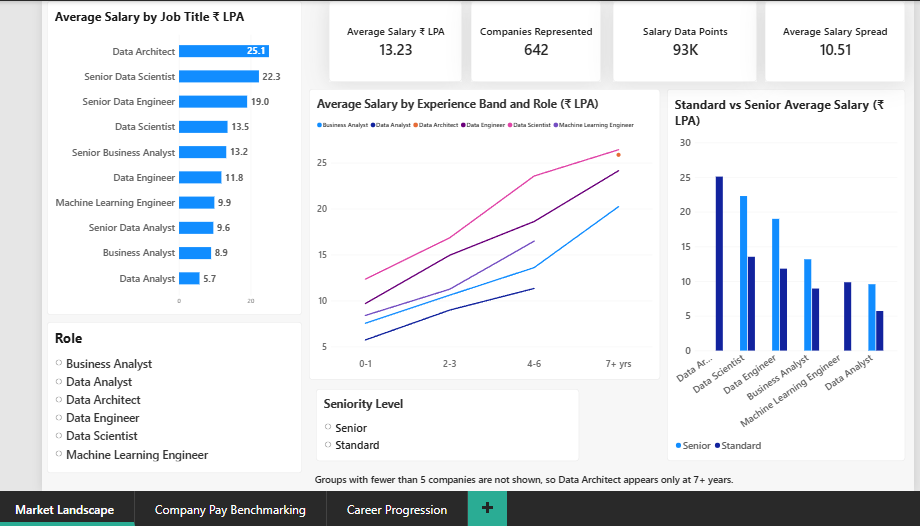

What the dashboard file says about the page in this screenshot:
{"tool":"powerbi","page":{"name":"Market Landscape","canvas":[1920,1080],"ordinal":0},"visuals":[{"type":"clusteredBarChart","title":"Average Salary by Job Title ₹ LPA","fields":{"Category":["job_titles.job_title"],"Y":["Avg(salary_benchmarks.avg_salary_lpa)"]},"box":[11,0,562,692.1],"z":0},{"type":"clusteredColumnChart","title":"Standard vs Senior Average Salary (₹ LPA)","fields":{"Category":["job_titles.base_role"],"Y":["Avg(salary_benchmarks.avg_salary_lpa)"],"Series":["job_titles.seniority_level"]},"box":[1377.6,194,524.6,819.9],"z":1000},{"type":"cardVisual","fields":{"Data":["_Measures.Average Salary"]},"box":[632.6,0,293.1,178.5],"z":2000},{"type":"cardVisual","fields":{"Data":["_Measures.Companies Represented"]},"box":[945.6,0,286.5,178.5],"z":3000},{"type":"cardVisual","fields":{"Data":["_Measures.Salary Data Points"]},"box":[1258.5,0,317.4,178.5],"z":4000},{"type":"cardVisual","fields":{"Data":["_Measures.Average Salary Spread"]},"box":[1593.6,0,308.6,178.5],"z":5000},{"type":"lineChart","title":"Average Salary by Experience Band and Role (₹ LPA)","fields":{"Y":["_Measures.Average Salary"],"Series":["job_titles.base_role"],"Category":["salary_benchmarks.Experience Band"]},"box":[588.5,194,773.6,641.4],"z":6000},{"type":"listSlicer","title":"Role","fields":{"Values":["job_titles.base_role"]},"box":[11,707.5,562,332.8],"z":7000},{"type":"listSlicer","title":"Seniority Level","fields":{"Values":["job_titles.seniority_level"]},"box":[603.9,855.2,579.7,158.7],"z":8000},{"type":"textbox","box":[249.1,1040.3,1626.6,39.7],"z":8001}]}

Visuals, with their boxes on the page's 1920x1080 design canvas (x1, y1, x2, y2). These are canvas units, not pixel positions in the 920x526 screenshot, which may show the page scaled, cropped or inside an application window:
"Average Salary by Job Title ₹ LPA" clusteredBarChart: [left=11, top=0, right=573, bottom=692]
"Standard vs Senior Average Salary (₹ LPA)" clusteredColumnChart: [left=1378, top=194, right=1902, bottom=1014]
cardVisual - _Measures.Average Salary: [left=633, top=0, right=926, bottom=178]
cardVisual - _Measures.Companies Represented: [left=946, top=0, right=1232, bottom=178]
cardVisual - _Measures.Salary Data Points: [left=1258, top=0, right=1576, bottom=178]
cardVisual - _Measures.Average Salary Spread: [left=1594, top=0, right=1902, bottom=178]
"Average Salary by Experience Band and Role (₹ LPA)" lineChart: [left=588, top=194, right=1362, bottom=835]
"Role" listSlicer: [left=11, top=708, right=573, bottom=1040]
"Seniority Level" listSlicer: [left=604, top=855, right=1184, bottom=1014]
textbox: [left=249, top=1040, right=1876, bottom=1080]
